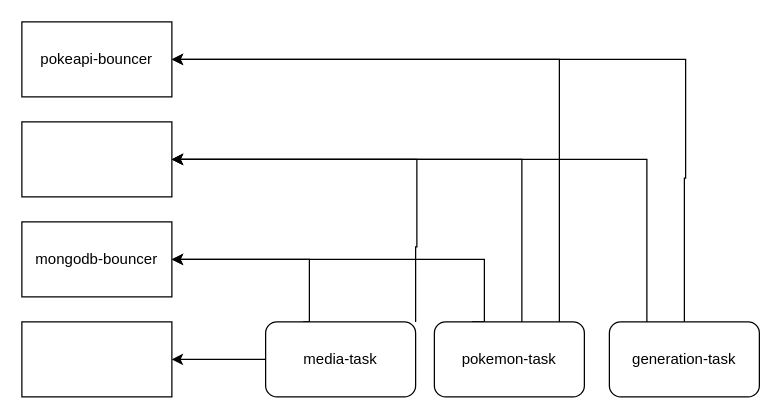
Image size: 781x419. Some labels were removed from this diagram. The centre of each missing label's shape, as x and y in pixels:
"image-converter" belongs at point 96,359.
"redis-bouncer" belongs at point 96,159.
